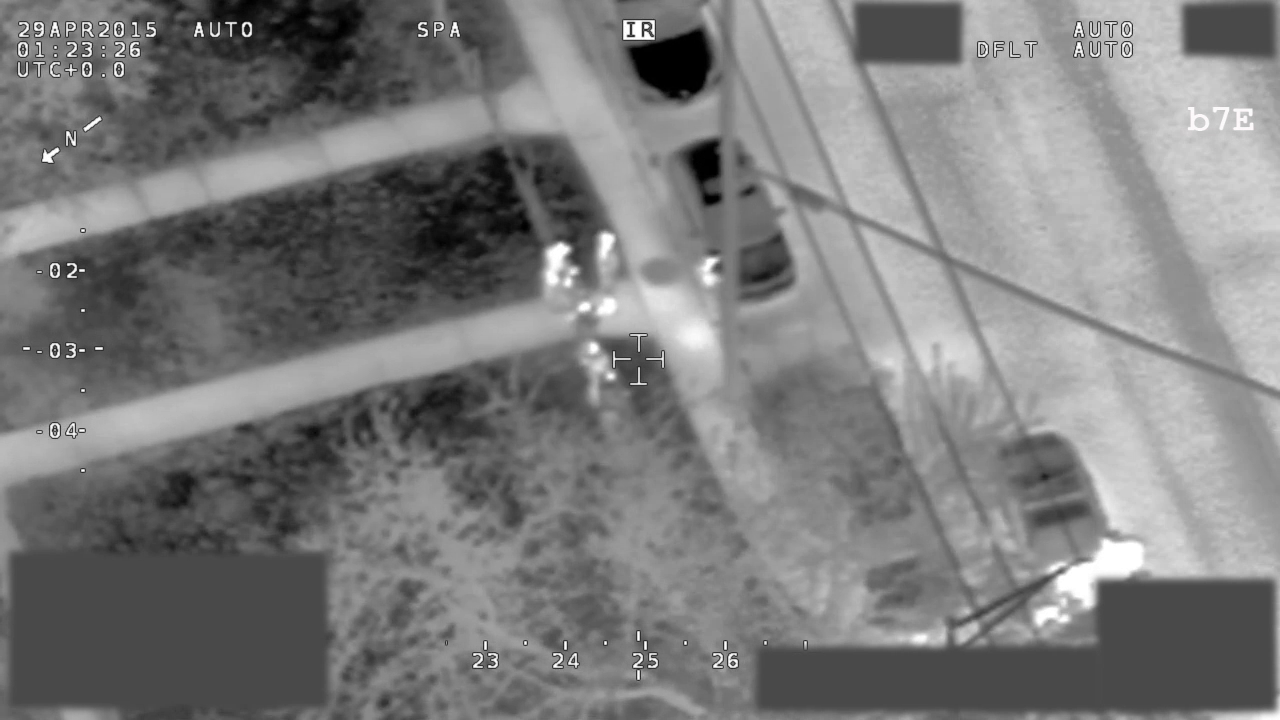vehicle: (751, 372, 983, 650), (665, 128, 802, 304), (989, 429, 1112, 576), (604, 1, 726, 115)
